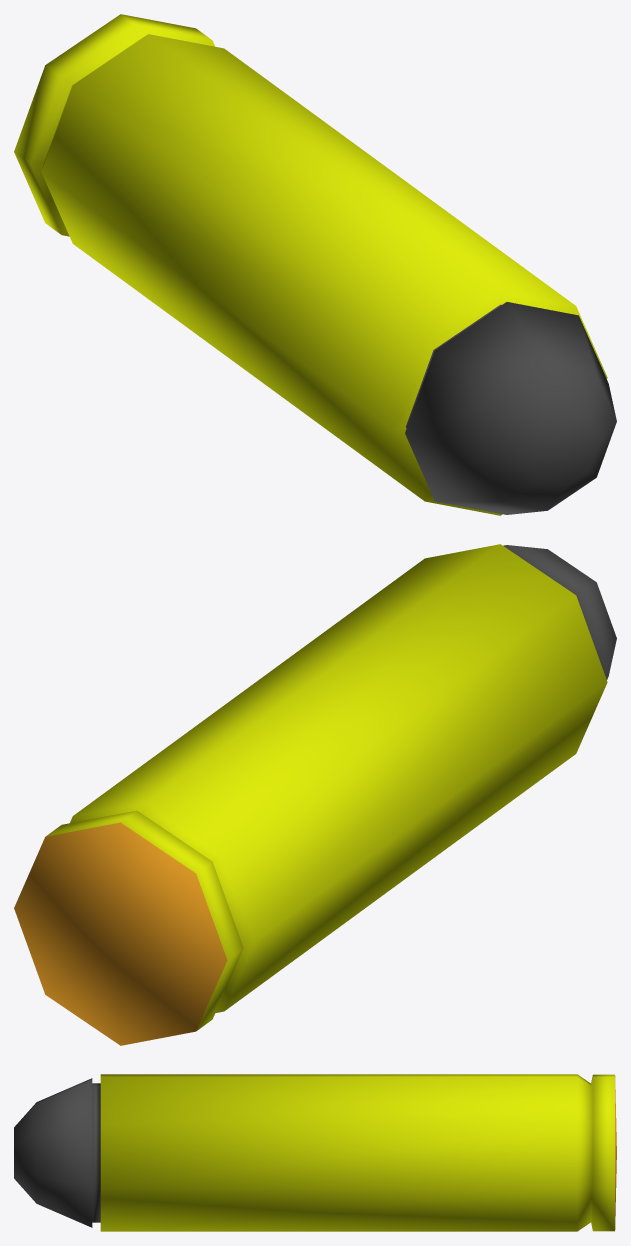
The model's file is bullet.gltf.
3 views of the same model, one above another, from view 1: azimuth 30°, elevation 25°; view 2: azimuth 150°, elevation 25°; view 3: azimuth 270°, elevation 25° (orthographic). The views are drawn at different scales.
Parts seen in each view (by area): view 1: Cylinder; view 2: Cylinder; view 3: Cylinder.
Boxes of the visible parts, <box> form: Cylinder: <box>14,14,616,515</box>; Cylinder: <box>14,544,616,1045</box>; Cylinder: <box>14,1074,616,1231</box>.
Size of the model in its own units: 0.0538 by 0.0538 by 0.1937.
